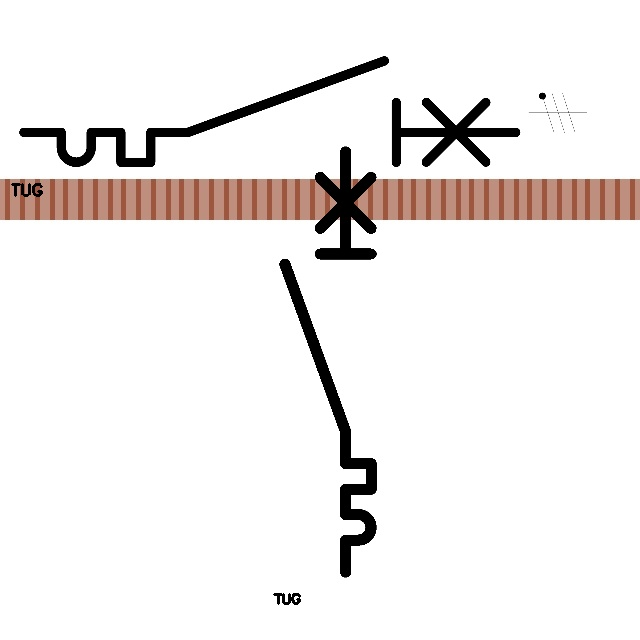interruptor_termomagnetico: (11, 48, 529, 175), (274, 141, 382, 583)
